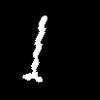half_double_crochet: (23, 16, 46, 81)
